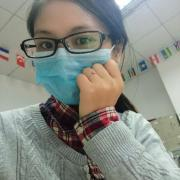OK: (32, 26, 114, 108)
